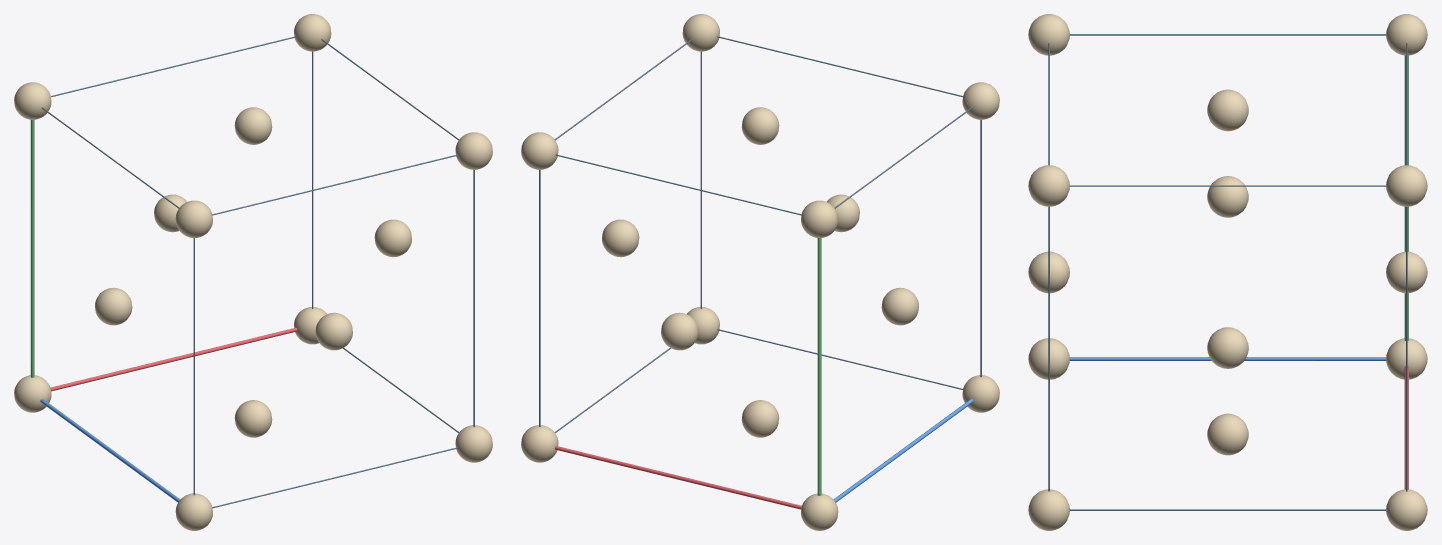
File: nguyen-to-yb.glb
The picture shows the model from 3 angles, left to right: view 1: azimuth 30°, elevation 25°; view 2: azimuth 150°, elevation 25°; view 3: azimuth 270°, elevation 25°; orthographic projection. The views are drawn at different scales.
Visible parts, largest first — view 1: Yb · Yb · 1 (×14), Ô mạng và các trục a, b, c; view 2: Yb · Yb · 1 (×14), Ô mạng và các trục a, b, c; view 3: Yb · Yb · 1 (×14), Ô mạng và các trục a, b, c.
Boxes of the visible parts, <box> form: Yb · Yb · 1 (×14): <box>14,14,492,530</box>; Ô mạng và các trục a, b, c: <box>30,36,474,508</box>; Yb · Yb · 1 (×14): <box>521,14,999,530</box>; Ô mạng và các trục a, b, c: <box>539,36,981,509</box>; Yb · Yb · 1 (×14): <box>1028,14,1427,530</box>; Ô mạng và các trục a, b, c: <box>1048,34,1408,510</box>.
Bounding box in the file's own units: 6.13 × 6.13 × 6.13.
